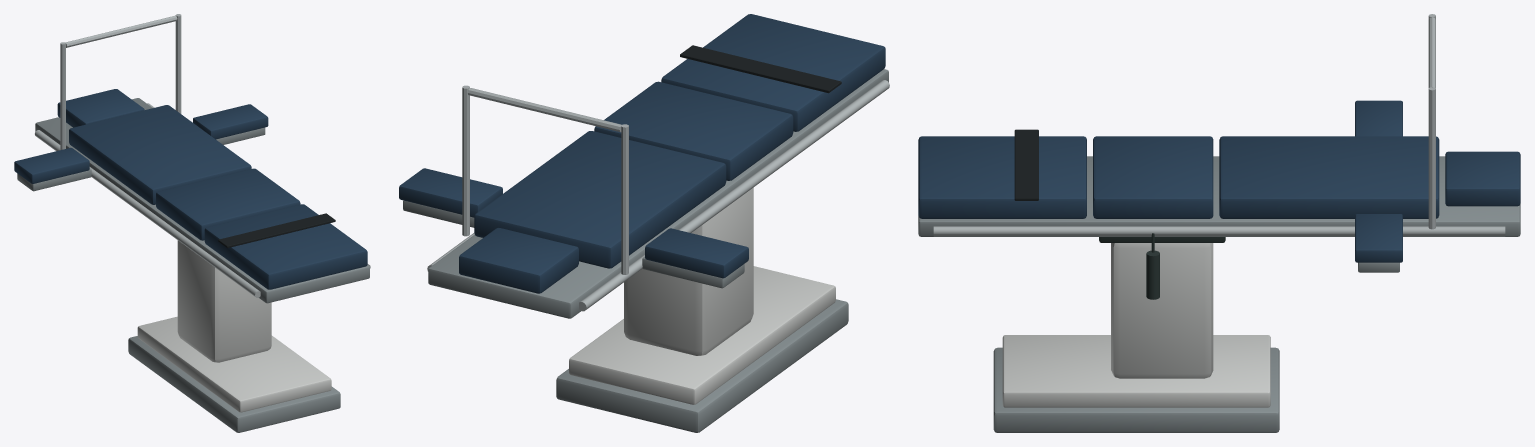
The model's file is operating-table.glb.
3 views of the same model, side by side, from view 1: azimuth 30°, elevation 25°; view 2: azimuth 150°, elevation 25°; view 3: azimuth 270°, elevation 25° (orthographic). The views are drawn at different scales.
Visible parts, largest first — view 1: operating-table; view 2: operating-table; view 3: operating-table.
Part boxes in pixels (x1,y1,x2,y2): operating-table: (14,14,370,432); operating-table: (399,14,889,432); operating-table: (918,14,1520,432).
Bounding box in the file's own units: 1.18 × 1.28 × 2.
